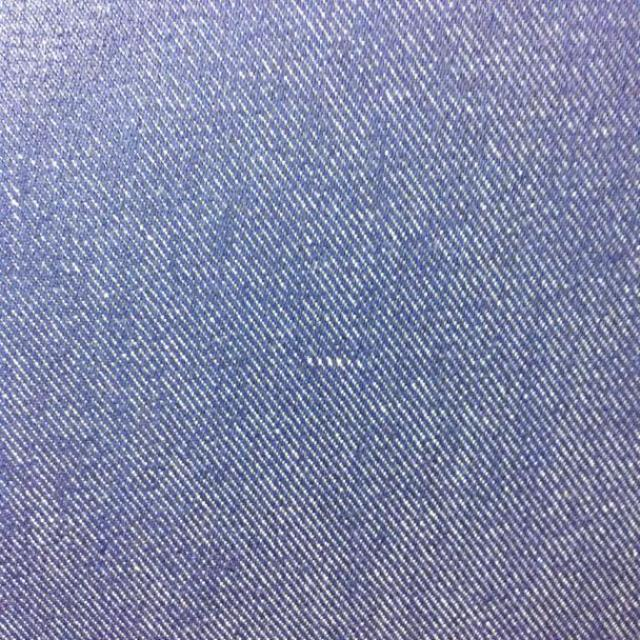Knot: (304, 356, 364, 372)
